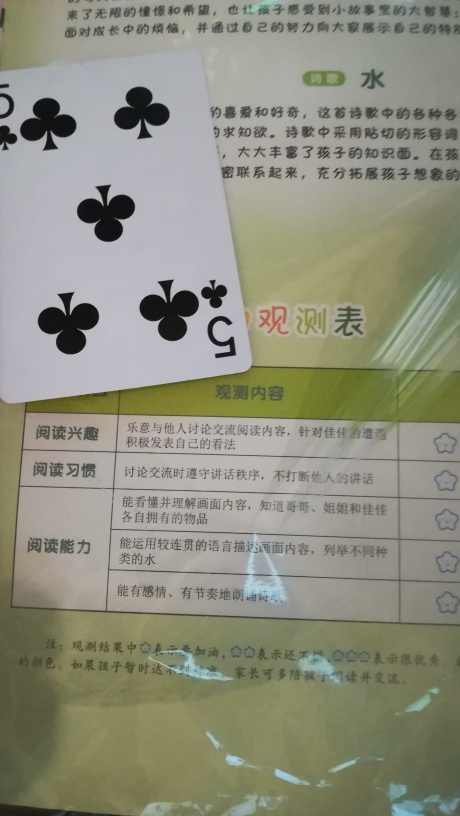mh 5: (2, 54, 253, 403)
